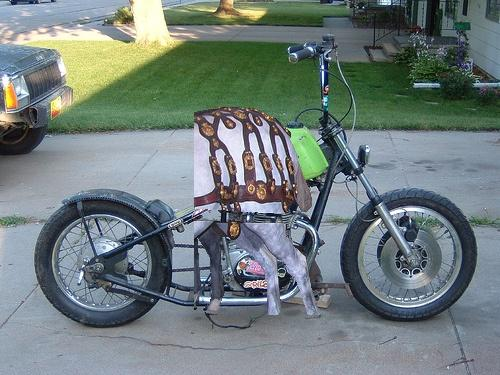tampered: (195, 107, 320, 315)
